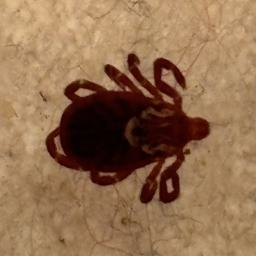Dermacentor variabilis: (46, 53, 209, 201)
